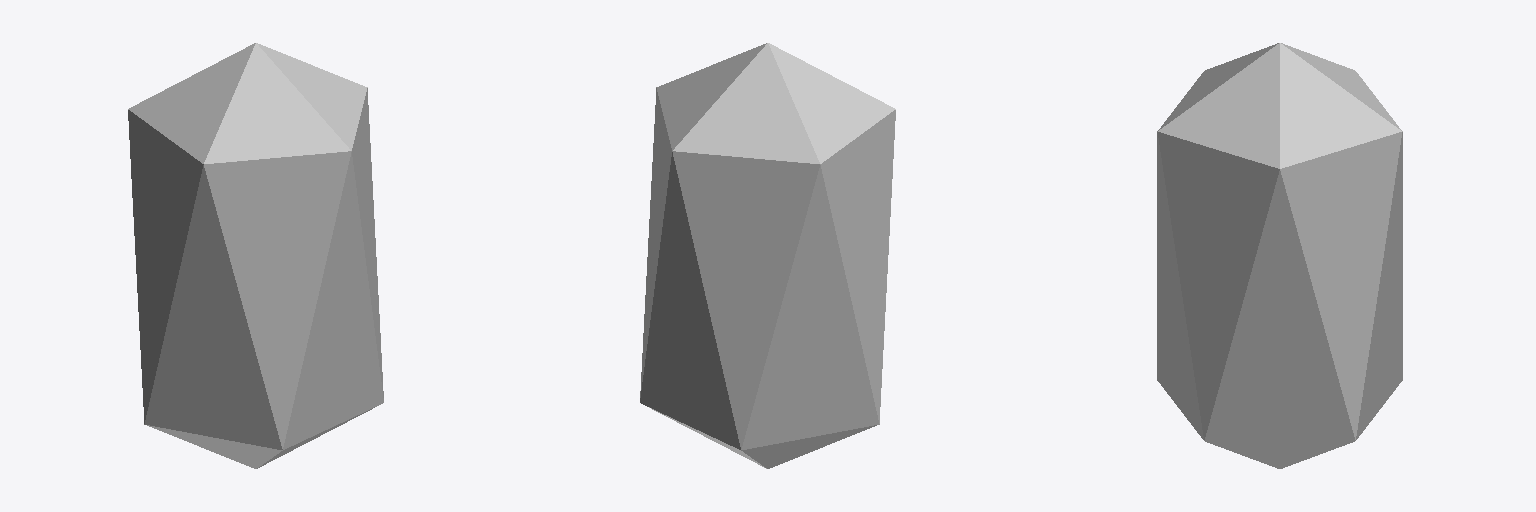
The model's file is Tutorial.024.obj.
3 renders of one model, left to right at view 1: azimuth 30°, elevation 25°; view 2: azimuth 150°, elevation 25°; view 3: azimuth 270°, elevation 25°, orthographic.
Parts seen in each view (by area): view 1: Tutorial.023; view 2: Tutorial.023; view 3: Tutorial.023.
Boxes of the visible parts, <box> form: Tutorial.023: <box>128,43,383,468</box>; Tutorial.023: <box>640,43,895,468</box>; Tutorial.023: <box>1157,43,1402,468</box>.
Bounding box in the file's own units: 1.79 × 3.27 × 1.7.